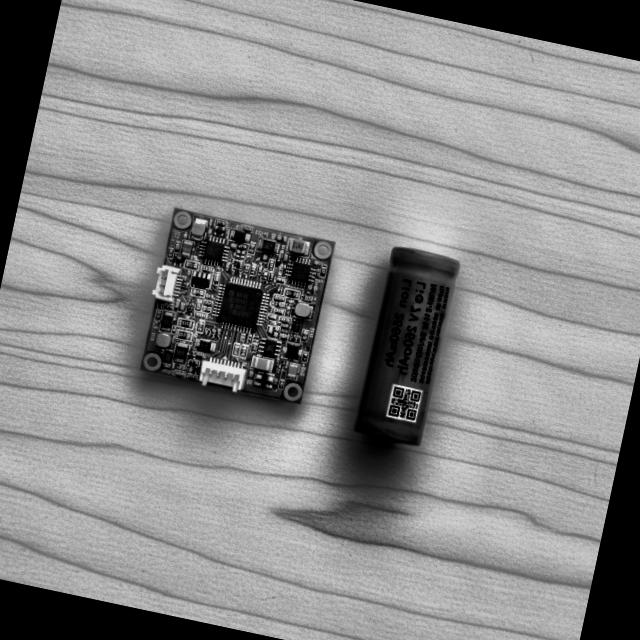Battery: (354, 242, 462, 446)
PCB: (137, 206, 335, 407)
